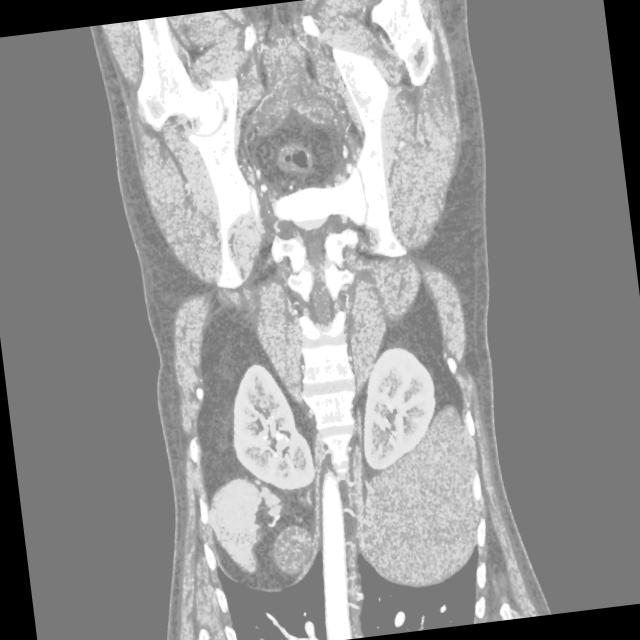NORMAL: (83, 92, 547, 610)
